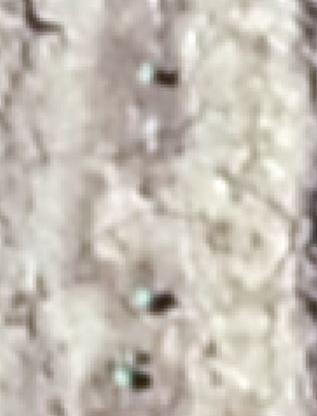cotton: (132, 289, 151, 310), (115, 368, 133, 388), (138, 66, 156, 83)
